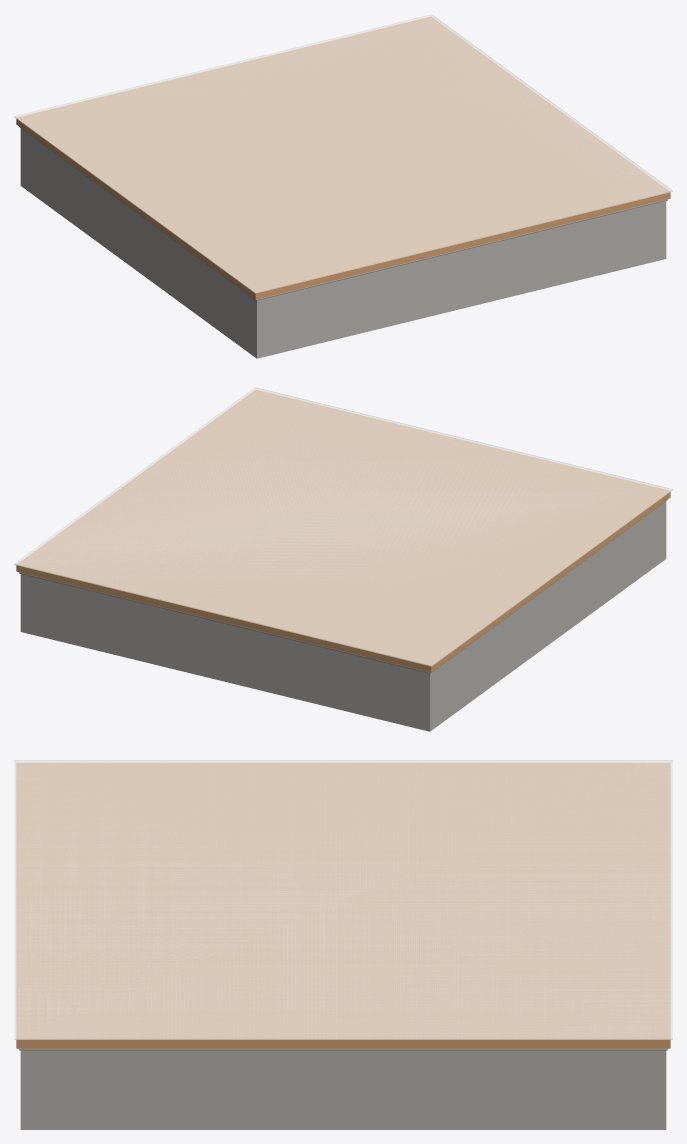
The model's file is mma.glb.
3 renders of one model, top to bottom at view 1: azimuth 30°, elevation 25°; view 2: azimuth 150°, elevation 25°; view 3: azimuth 270°, elevation 25°, orthographic. The views are drawn at different scales.
Visible parts, largest first — view 1: body, topcoat-2, topcoat-1, substrate, substrate-prep; view 2: body, topcoat-2, topcoat-1, substrate, substrate-prep; view 3: body, topcoat-2, topcoat-1, substrate, primer, substrate-prep.
Boxes of the visible parts, x1=… form: body: x1=16, y1=17, x2=670, y2=299; topcoat-2: x1=14, y1=14, x2=672, y2=293; topcoat-1: x1=15, y1=16, x2=671, y2=292; substrate: x1=20, y1=128, x2=666, y2=358; substrate-prep: x1=19, y1=127, x2=667, y2=300; body: x1=16, y1=390, x2=670, y2=672; topcoat-2: x1=14, y1=387, x2=672, y2=666; topcoat-1: x1=15, y1=389, x2=671, y2=665; substrate: x1=20, y1=501, x2=666, y2=731; substrate-prep: x1=19, y1=500, x2=667, y2=673; body: x1=16, y1=763, x2=670, y2=1048; topcoat-2: x1=14, y1=760, x2=672, y2=1039; topcoat-1: x1=15, y1=762, x2=671, y2=1039; substrate: x1=20, y1=1050, x2=666, y2=1129; primer: x1=18, y1=1048, x2=668, y2=1049; substrate-prep: x1=19, y1=1049, x2=667, y2=1050.
Size of the model in its own units: 0.3 by 0.0473 by 0.3.
